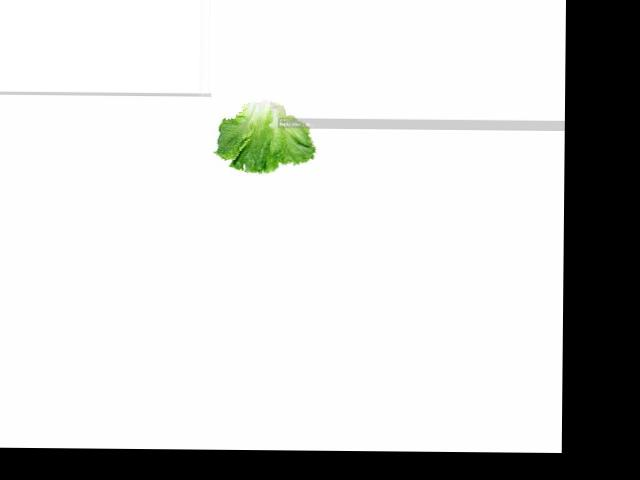lettuce: (215, 99, 311, 172)
